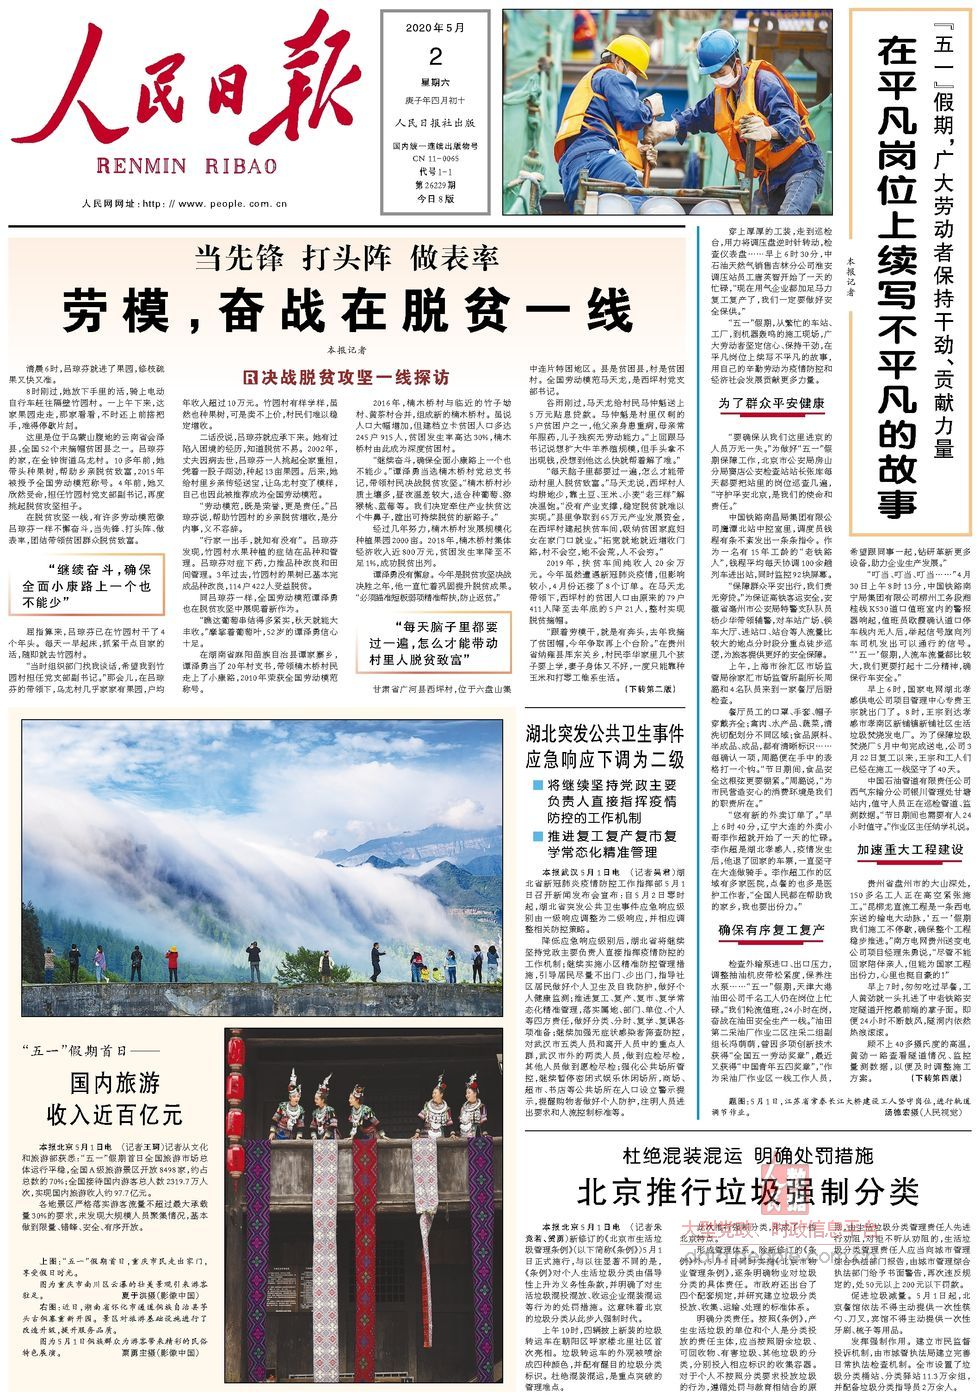pic: (14, 714, 508, 1023), (221, 1026, 509, 1387), (497, 3, 838, 220)
